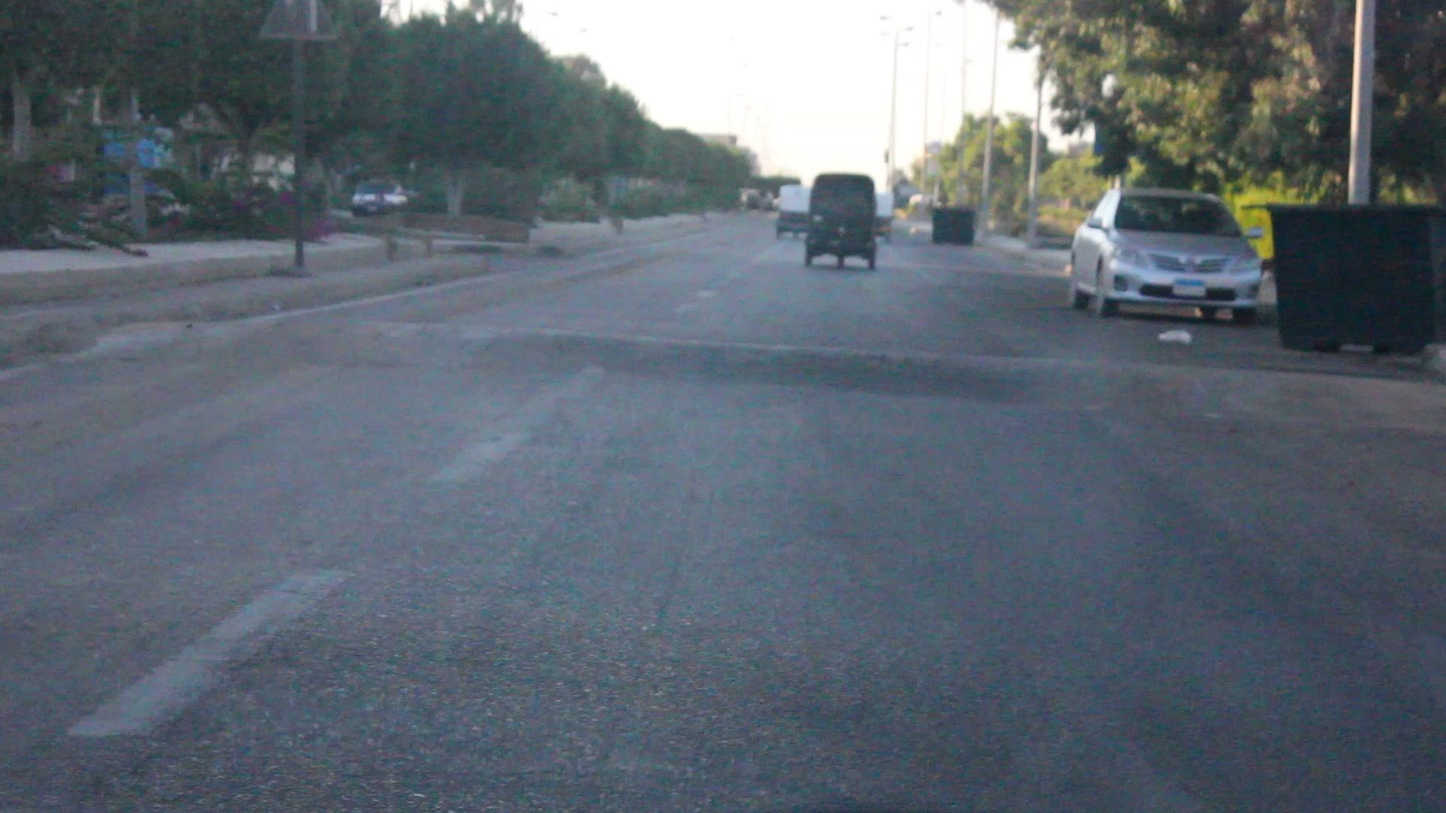Bump: (66, 305, 1437, 433)
